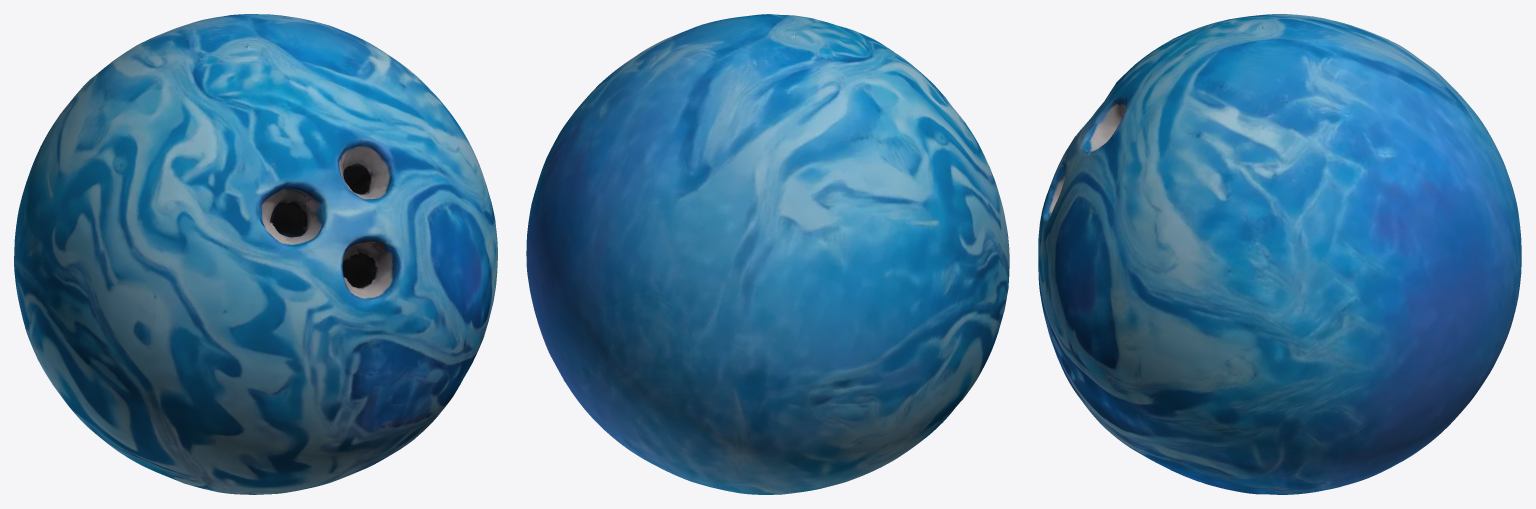
3 renders of one model, left to right at view 1: azimuth 30°, elevation 25°; view 2: azimuth 150°, elevation 25°; view 3: azimuth 270°, elevation 25°, orthographic.
Parts seen in each view (by area): view 1: Mesh_0; view 2: Mesh_0; view 3: Mesh_0.
Boxes of the visible parts, x1,y1,x2,y2 form: Mesh_0: [14, 14, 497, 494]; Mesh_0: [526, 14, 1009, 494]; Mesh_0: [1038, 14, 1521, 494].
Bounding box in the file's own units: 0.2198 × 0.22 × 0.2193.
Materials: 1 (1 with a texture image).
